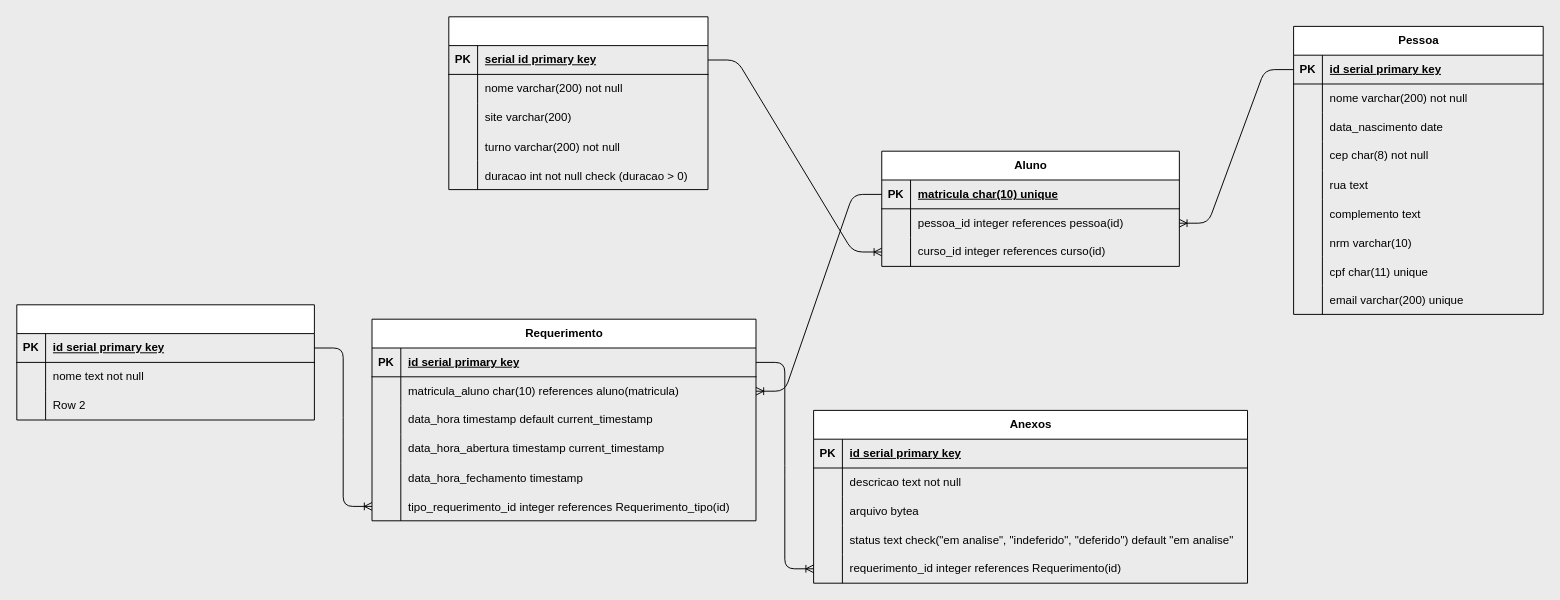
Some shapes in this 1560 by 600 pixel diagram are drawn without their labels. The shapes that lost their labels are listed below. From the top down, each one's box as (x1, y1, x2, y2) in pixels, then its label:
(448, 16, 708, 190): Curso
(16, 304, 314, 420): Requerimento_tipo
